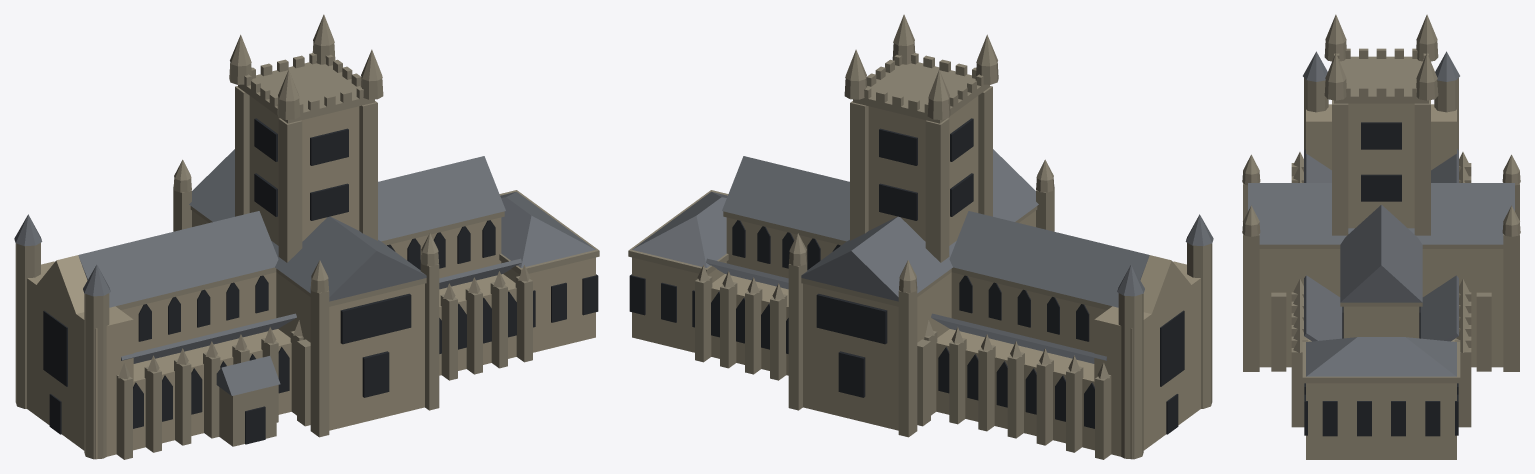
The model's file is southwark_cathedral.glb.
3 views of the same model, side by side, from view 1: azimuth 30°, elevation 25°; view 2: azimuth 150°, elevation 25°; view 3: azimuth 270°, elevation 25° (orthographic). The views are drawn at different scales.
Parts seen in each view (by area): view 1: southwark_cathedral; view 2: southwark_cathedral; view 3: southwark_cathedral.
Boxes of the visible parts, x1,y1,x2,y2 form: southwark_cathedral: [14, 14, 599, 459]; southwark_cathedral: [628, 14, 1213, 459]; southwark_cathedral: [1242, 14, 1520, 459].
Bounding box in the file's own units: 81.37 × 50.1 × 40.64.
